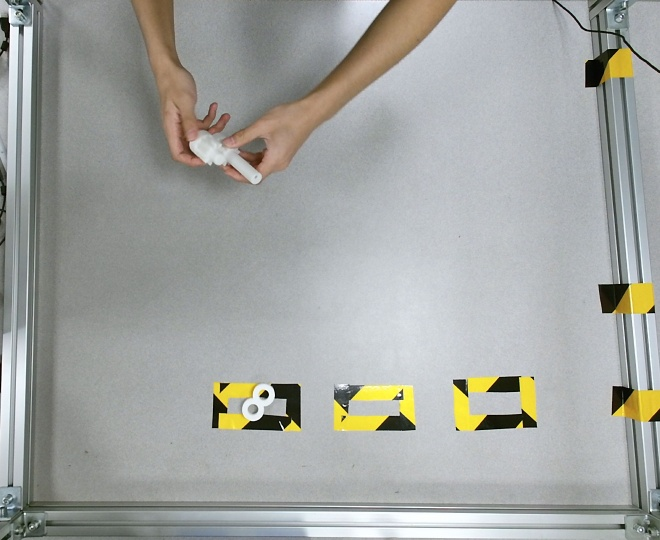stage_3: (188, 129, 262, 184)
